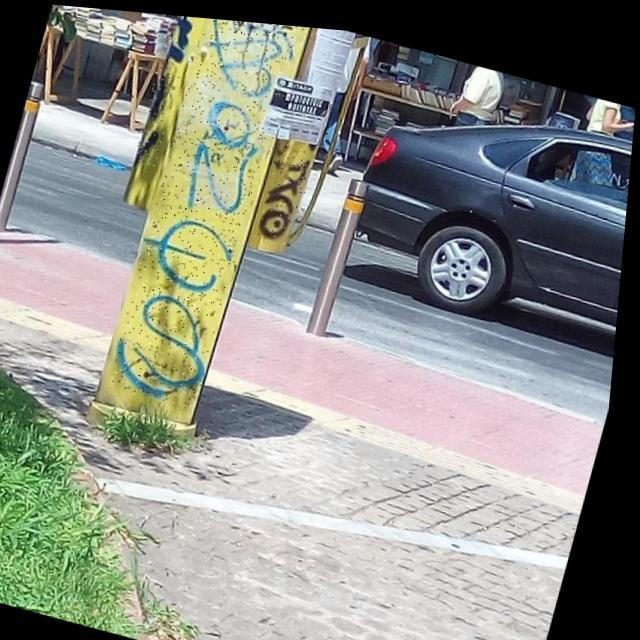-: (113, 9, 296, 408), (133, 10, 199, 169), (259, 131, 319, 241), (217, 15, 298, 36)
